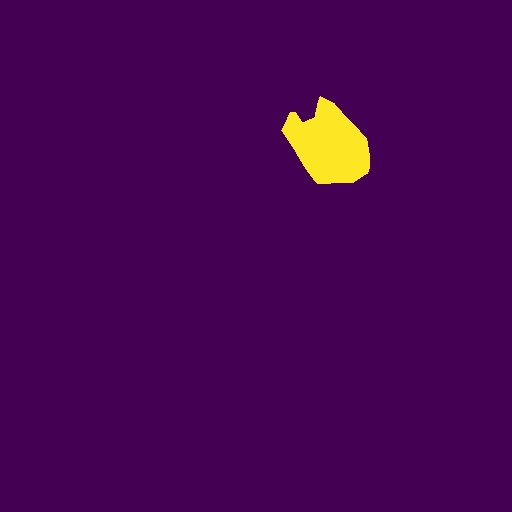Gliomia_tumour: (281, 96, 370, 184)
